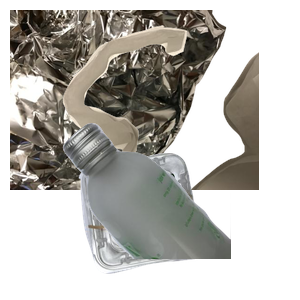glass: (60, 120, 300, 300)
metal: (10, 10, 229, 190)
plastic: (76, 151, 270, 300)
trash: (60, 23, 300, 203)
